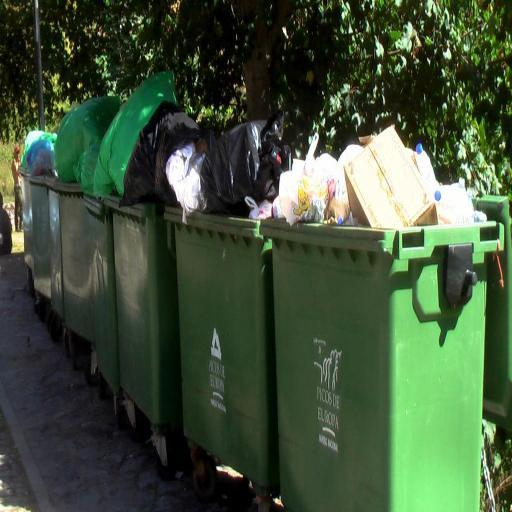trash-can: (260, 126, 503, 512)
